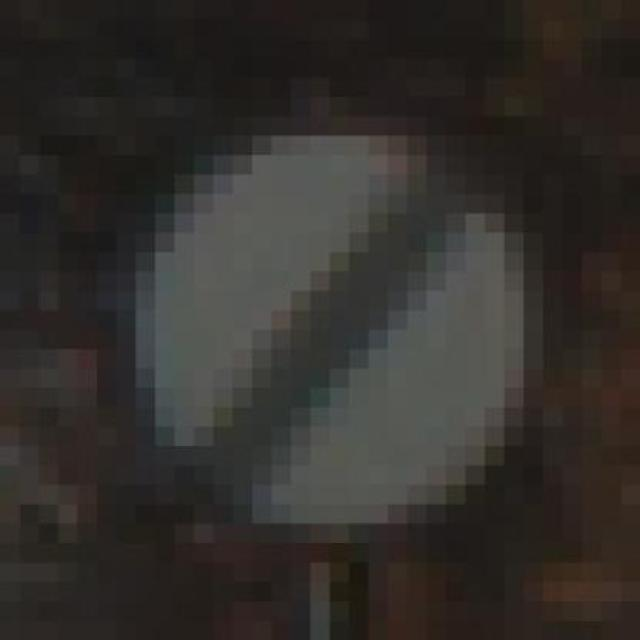End of all speed and passing limits: (135, 77, 543, 543)
